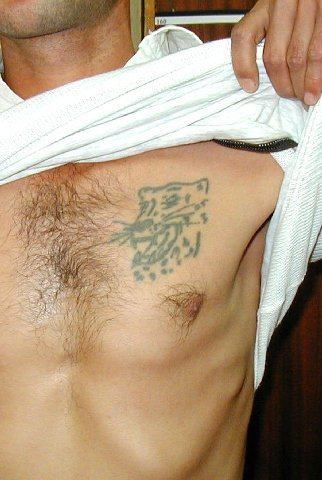tatu5_tigr: (110, 179, 216, 281)
